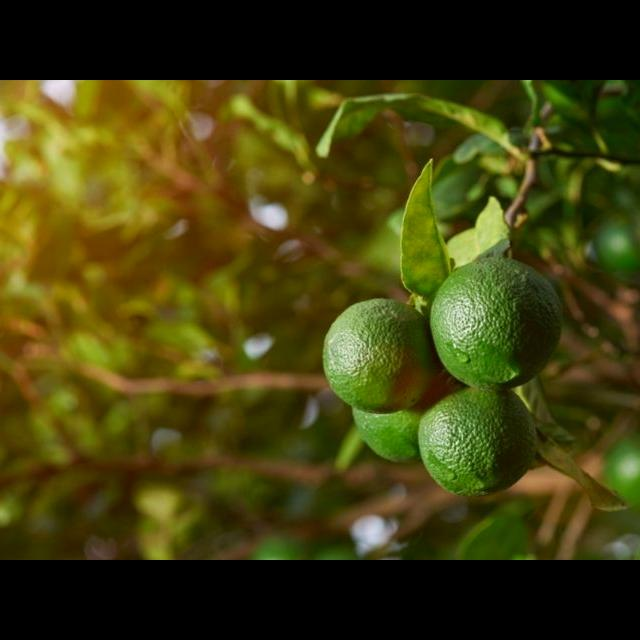lime: (424, 243, 565, 391), (341, 339, 474, 463), (318, 294, 445, 419), (418, 377, 543, 501)
